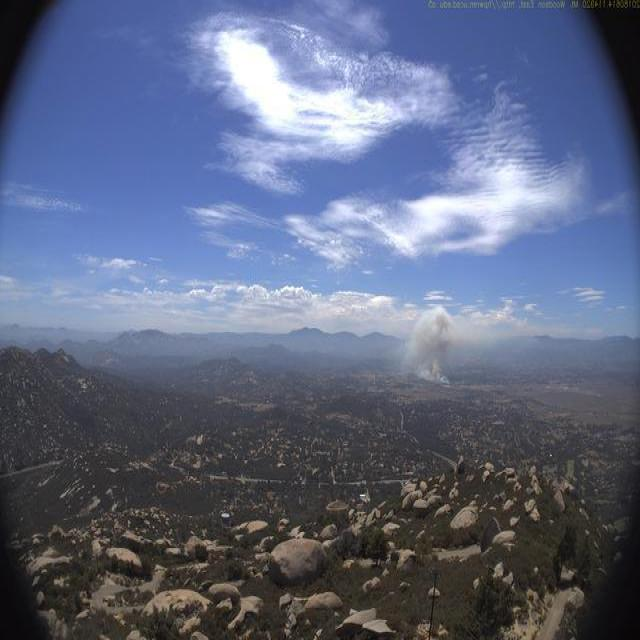Smoke: (400, 303, 455, 389)
